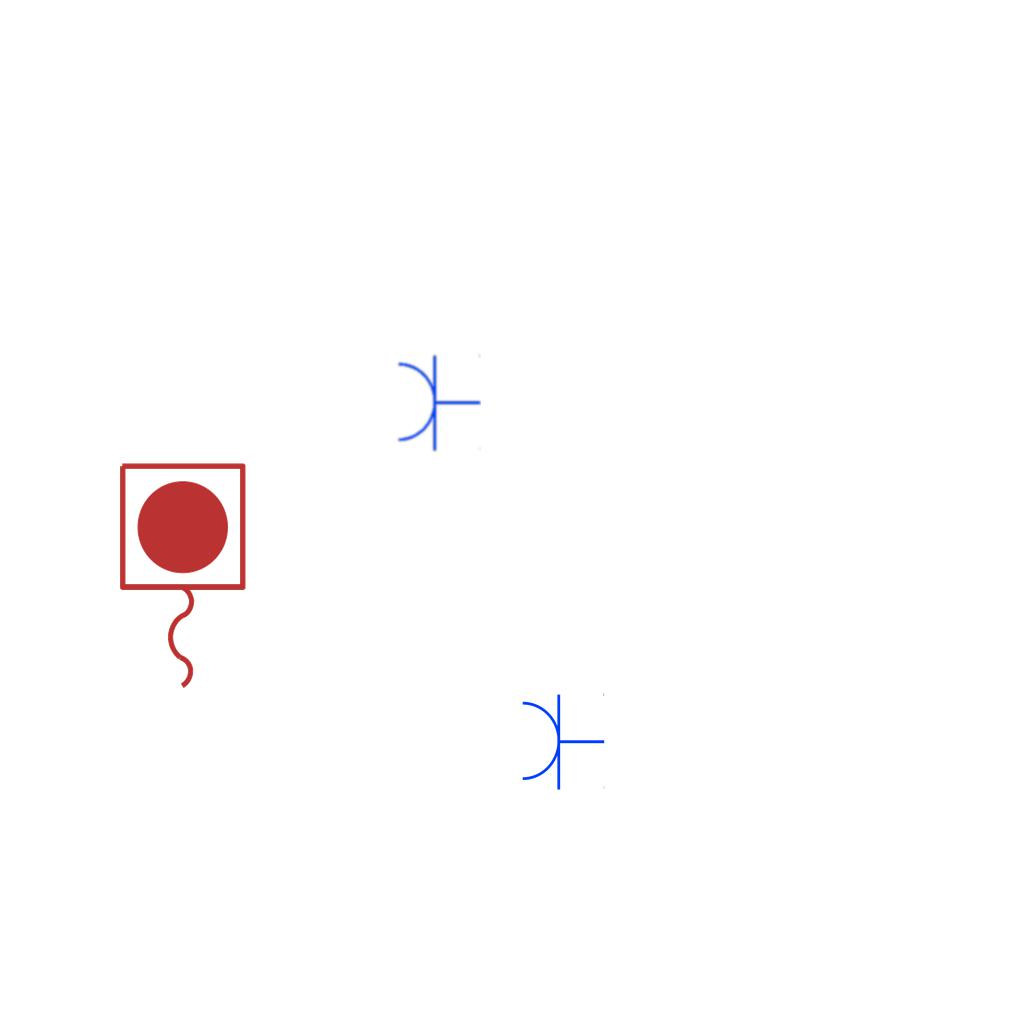Schukosteckdose_einfach: (518, 691, 605, 791), (394, 352, 481, 452)
Zugtaster: (109, 455, 253, 699)
